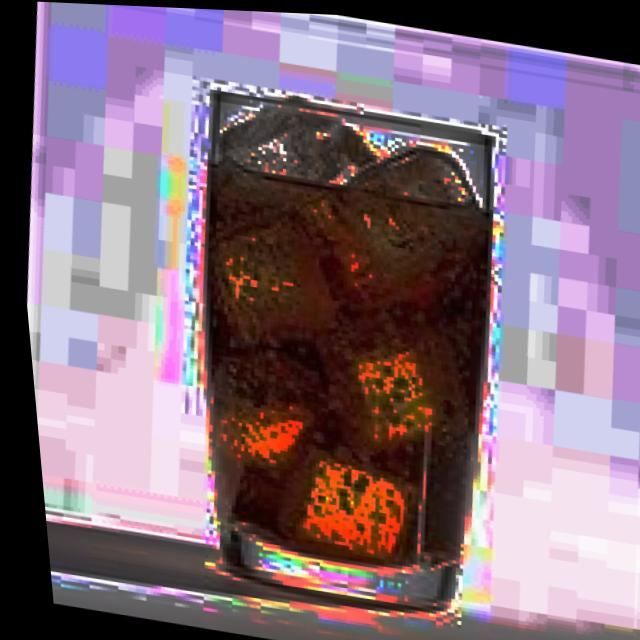drink: (215, 90, 491, 562)
